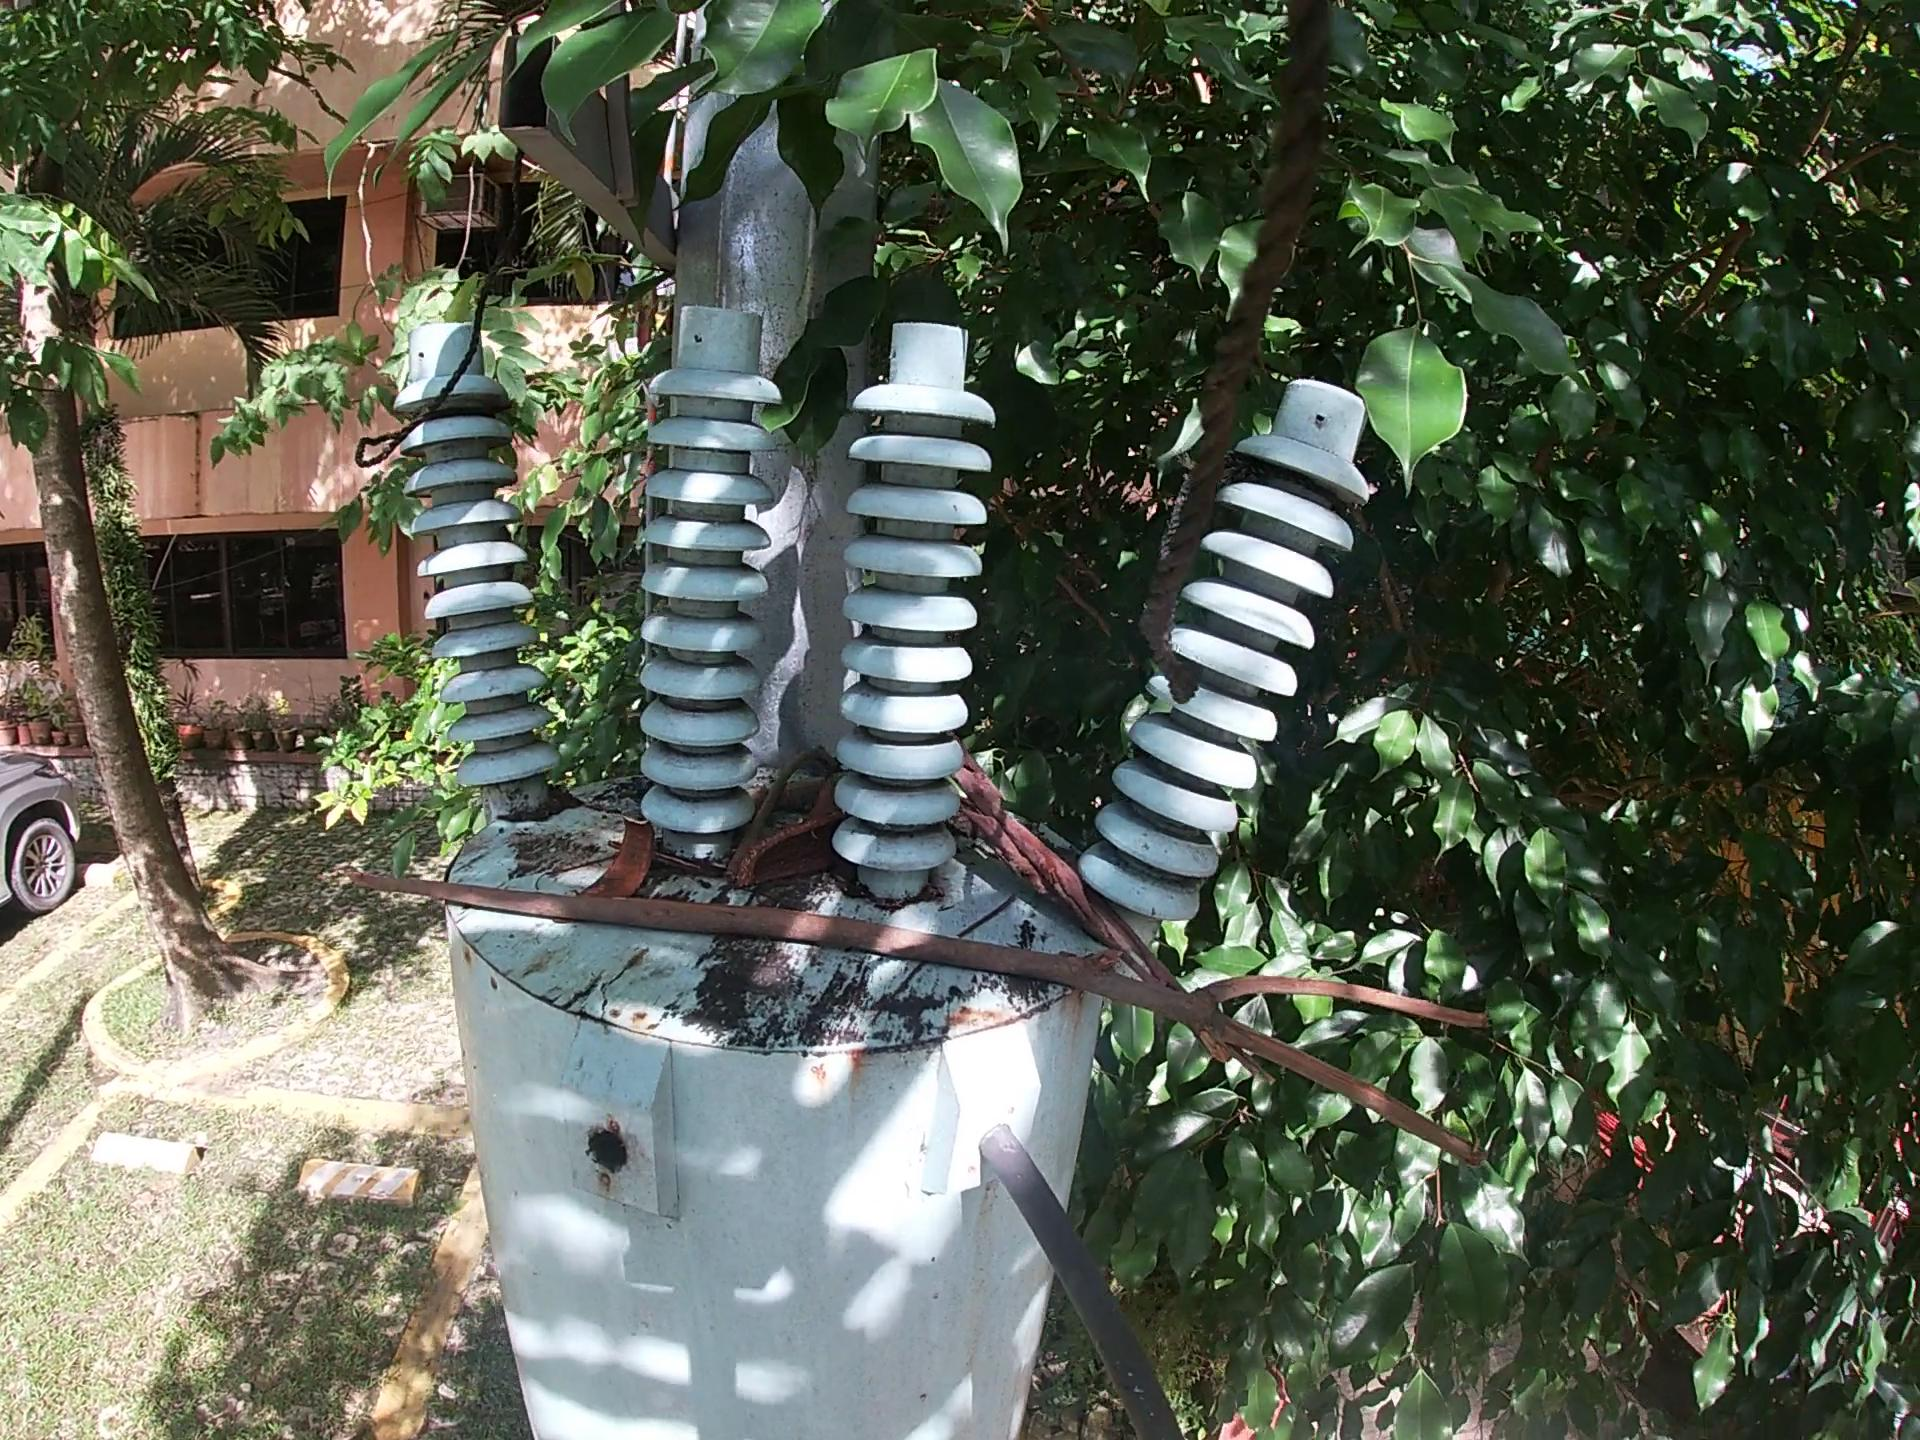mahogany fruit: (730, 811, 853, 894), (571, 812, 661, 902)
tree branch: (334, 855, 1498, 1175), (949, 750, 1277, 1088), (726, 746, 838, 877)
